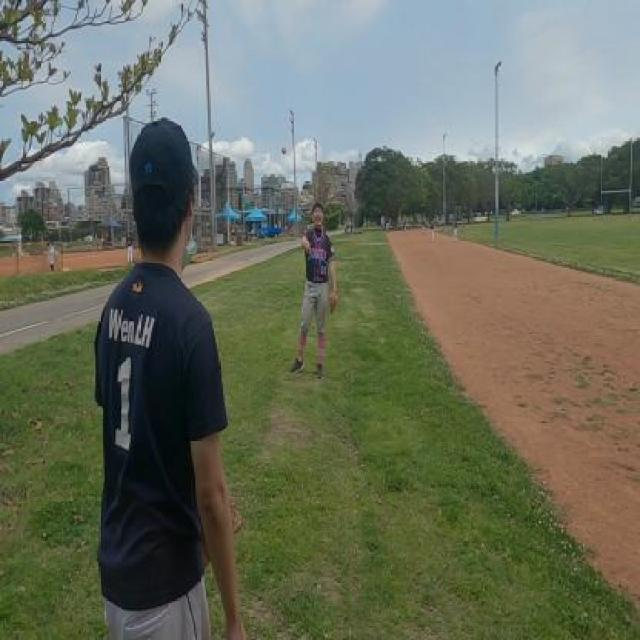baseball: (280, 145, 288, 157)
